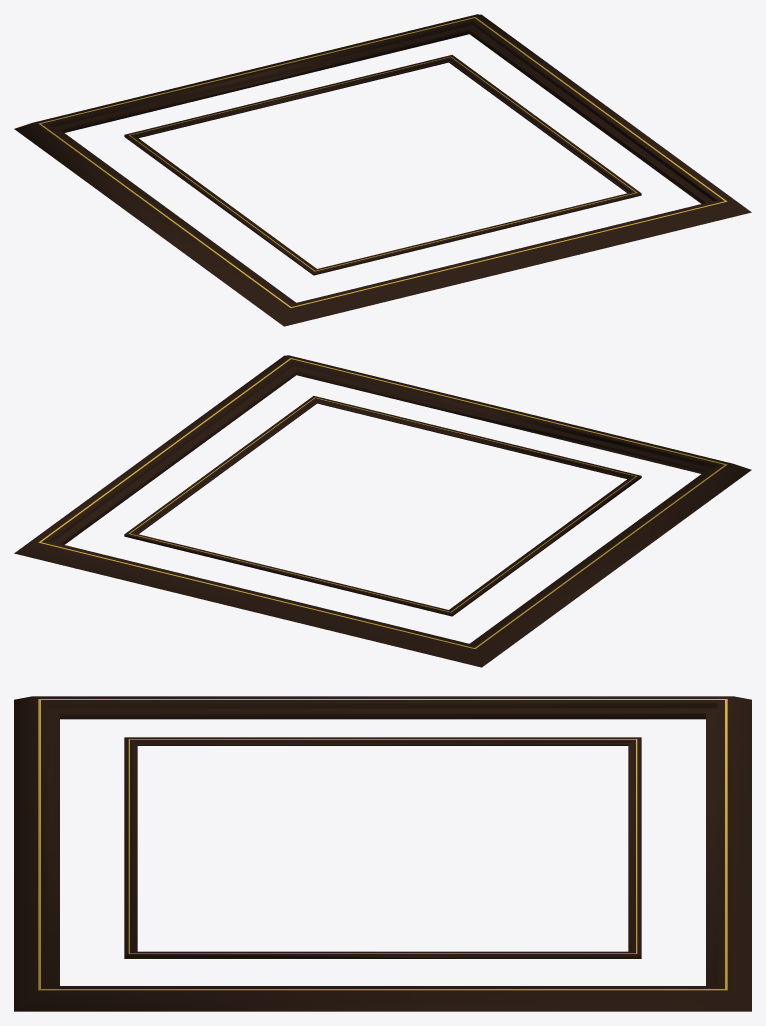
File: board_chassis_walnut.glb
The picture shows the model from 3 angles, top to bottom: view 1: azimuth 30°, elevation 25°; view 2: azimuth 150°, elevation 25°; view 3: azimuth 270°, elevation 25°; orthographic projection. The views are drawn at different scales.
Parts seen in each view (by area): view 1: Board_Executive_Chassis; view 2: Board_Executive_Chassis; view 3: Board_Executive_Chassis.
Boxes of the visible parts, x1,y1,x2,y2 form: Board_Executive_Chassis: [14, 14, 751, 326]; Board_Executive_Chassis: [14, 355, 751, 667]; Board_Executive_Chassis: [14, 696, 751, 1011].
Size of the model in its own units: 22.4 by 0.374 by 22.4.
